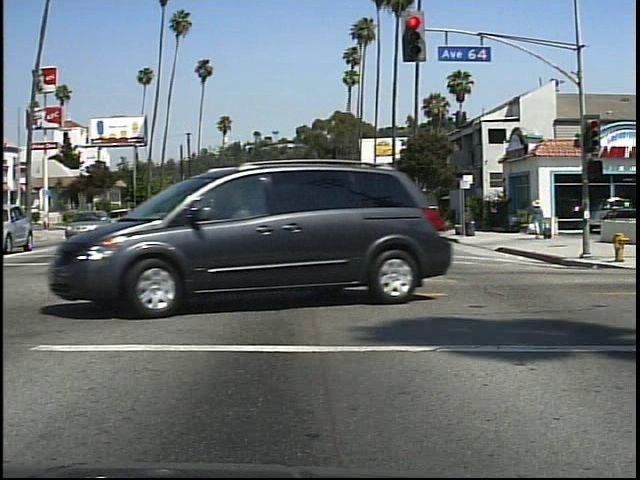person: (530, 195, 548, 244)
